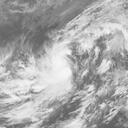cyclone: (36, 47, 74, 85)
